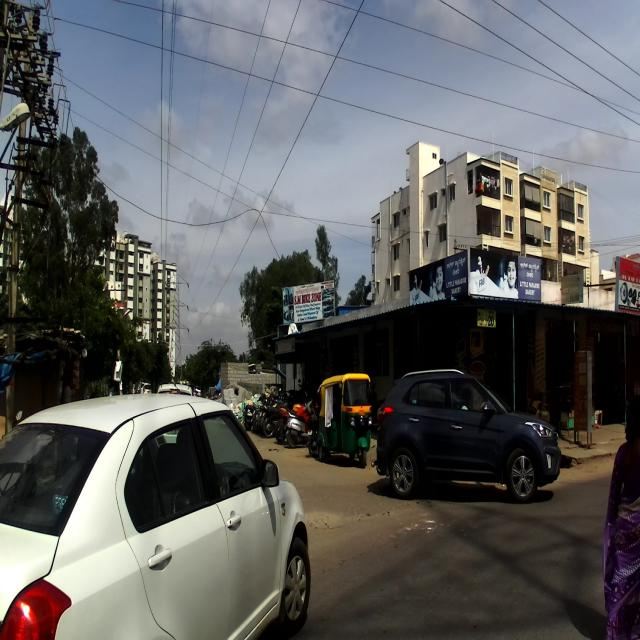Car_Hyundai: (370, 368, 562, 504)
Car_Maruti-Suzuki: (0, 392, 311, 639)
autorickshaw: (315, 372, 375, 468)
